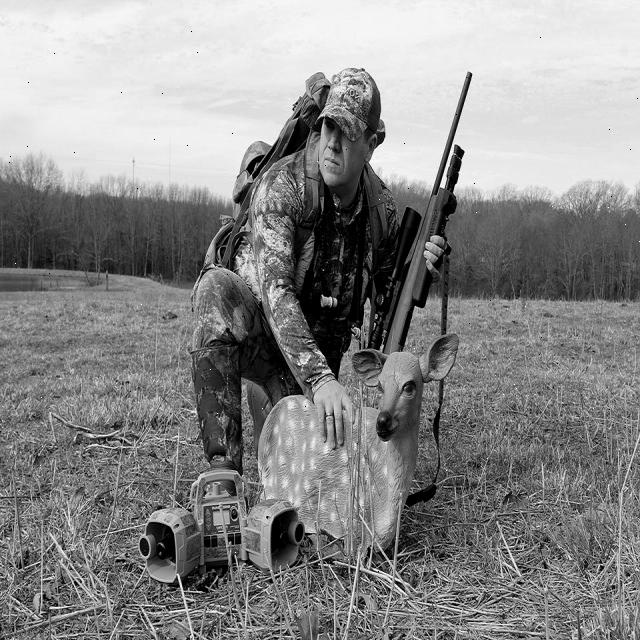deer: (344, 326, 466, 464)
